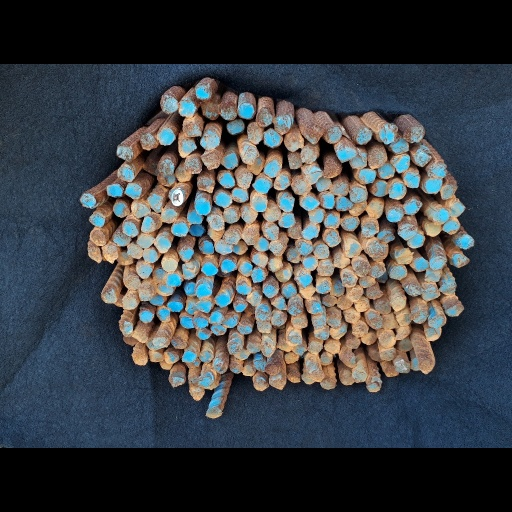dipstick: (303, 124, 324, 145), (369, 145, 386, 169), (269, 236, 287, 256), (220, 100, 237, 121), (178, 99, 196, 118), (200, 131, 219, 149), (157, 127, 175, 145), (352, 259, 370, 277), (323, 160, 341, 178), (275, 263, 292, 282), (404, 198, 423, 215), (292, 177, 311, 194), (379, 125, 396, 144), (301, 166, 321, 182), (247, 122, 262, 143), (404, 126, 425, 141), (203, 102, 220, 120), (285, 134, 303, 151), (379, 330, 396, 348), (422, 283, 439, 301), (257, 107, 273, 126), (366, 200, 382, 219), (301, 147, 318, 164), (389, 183, 406, 200), (265, 129, 281, 147), (241, 146, 257, 164), (197, 176, 215, 192), (141, 132, 157, 150), (168, 188, 186, 204), (87, 243, 102, 262), (427, 162, 446, 177), (266, 202, 280, 222), (162, 96, 178, 113), (202, 152, 219, 168), (218, 172, 235, 188), (184, 157, 201, 173), (124, 183, 141, 199), (366, 313, 383, 329), (302, 224, 319, 240), (324, 230, 341, 246), (251, 194, 267, 211), (241, 207, 257, 224), (350, 153, 367, 169), (393, 156, 410, 172), (377, 162, 394, 178), (403, 171, 419, 188), (237, 104, 255, 119), (226, 120, 244, 135), (183, 121, 201, 136), (178, 140, 196, 155), (360, 222, 378, 237), (386, 207, 404, 222), (279, 194, 294, 212), (329, 182, 348, 196), (390, 140, 409, 154), (337, 147, 357, 160), (90, 229, 106, 245), (224, 207, 240, 223), (255, 306, 271, 322), (117, 146, 134, 161), (215, 192, 232, 207), (243, 227, 258, 244), (398, 224, 415, 239), (273, 175, 290, 190), (326, 126, 341, 143), (357, 127, 372, 144), (415, 149, 430, 166), (113, 231, 131, 245), (103, 245, 117, 263), (439, 281, 457, 295), (407, 234, 425, 248), (358, 169, 376, 183), (275, 115, 288, 134), (424, 269, 443, 282), (300, 197, 319, 210), (222, 153, 237, 169), (264, 161, 280, 176), (159, 159, 174, 175), (155, 238, 171, 253), (127, 242, 142, 258), (208, 215, 224, 230), (375, 299, 391, 314), (391, 296, 406, 312), (263, 224, 278, 240), (317, 261, 333, 276), (345, 242, 361, 257), (350, 187, 366, 202), (372, 181, 387, 197), (426, 178, 442, 193), (287, 152, 301, 169), (117, 168, 134, 182), (144, 159, 158, 176), (141, 216, 155, 233), (161, 258, 178, 272), (411, 310, 428, 324), (323, 215, 340, 229), (342, 216, 359, 230), (132, 203, 150, 216), (428, 315, 446, 328), (296, 242, 314, 255), (452, 254, 470, 267), (445, 304, 464, 316), (196, 84, 211, 99), (113, 202, 128, 217), (195, 199, 210, 214), (123, 222, 138, 237), (326, 312, 341, 327), (395, 325, 410, 340), (342, 270, 357, 285), (80, 193, 96, 207), (89, 213, 105, 227), (124, 276, 140, 290), (371, 262, 385, 278), (366, 241, 382, 255), (395, 250, 411, 264), (443, 221, 459, 235), (253, 179, 269, 193), (320, 194, 334, 210), (171, 223, 188, 236), (329, 327, 346, 340), (333, 254, 350, 267), (366, 286, 383, 299), (389, 266, 406, 279), (349, 202, 366, 215), (323, 341, 341, 353), (107, 183, 122, 197), (161, 208, 176, 222), (138, 285, 152, 300), (196, 284, 211, 298), (133, 350, 147, 365), (383, 314, 398, 328), (330, 281, 344, 296), (279, 213, 294, 227), (314, 245, 329, 259), (309, 209, 323, 224), (458, 235, 473, 249), (433, 209, 448, 223), (450, 202, 465, 216), (316, 178, 331, 192), (101, 289, 117, 302), (221, 259, 237, 272), (182, 263, 195, 279), (120, 321, 133, 337), (192, 316, 208, 329), (255, 321, 271, 334), (337, 297, 353, 310), (412, 257, 428, 270), (429, 257, 445, 270), (441, 186, 457, 199), (201, 263, 218, 275), (296, 274, 313, 286), (335, 197, 352, 209), (176, 168, 190, 182), (143, 248, 157, 262), (352, 322, 366, 336), (395, 359, 409, 373), (419, 360, 433, 374), (254, 238, 268, 252), (137, 265, 152, 278), (153, 269, 166, 284), (179, 248, 194, 261), (199, 241, 214, 254), (224, 230, 239, 243), (233, 242, 248, 255), (288, 302, 303, 315), (307, 341, 322, 354), (398, 339, 413, 352), (426, 328, 441, 341), (281, 285, 296, 298), (289, 223, 302, 238), (149, 194, 161, 210), (232, 189, 248, 201), (138, 235, 154, 247), (265, 363, 281, 375), (286, 334, 302, 346), (291, 316, 307, 328), (307, 302, 323, 314), (361, 333, 377, 345), (381, 349, 397, 361), (367, 345, 379, 361), (378, 230, 394, 242), (425, 224, 441, 236), (157, 176, 176, 186), (156, 285, 173, 296), (215, 242, 232, 253), (405, 285, 422, 296), (272, 312, 286, 325), (269, 258, 282, 272), (209, 312, 224, 324), (277, 334, 287, 352), (263, 285, 278, 297), (348, 288, 363, 300), (300, 287, 315, 299), (355, 299, 370, 311), (246, 163, 262, 174), (188, 225, 204, 236), (201, 378, 217, 389), (253, 379, 269, 390), (270, 379, 286, 390), (157, 309, 170, 322), (252, 269, 265, 282), (237, 323, 251, 335), (215, 295, 229, 307), (247, 294, 261, 306), (273, 298, 287, 310), (310, 369, 324, 381), (344, 354, 356, 368), (397, 314, 411, 326), (322, 295, 336, 307), (316, 281, 330, 293), (302, 258, 316, 270), (187, 212, 202, 223), (139, 311, 154, 322), (164, 352, 179, 363), (148, 351, 163, 362), (198, 351, 213, 362), (240, 262, 251, 277), (210, 325, 226, 335), (184, 282, 196, 295), (224, 315, 237, 327), (234, 300, 247, 312), (287, 371, 300, 383), (341, 372, 353, 385), (118, 253, 132, 264), (197, 301, 211, 312), (133, 331, 147, 342), (213, 363, 227, 374), (247, 342, 261, 353), (284, 352, 298, 363), (312, 318, 326, 329), (353, 371, 367, 382), (152, 337, 169, 346), (314, 329, 329, 339), (321, 379, 336, 389), (345, 312, 360, 322), (180, 316, 192, 328), (297, 339, 306, 355), (320, 353, 332, 365), (359, 277, 375, 286), (206, 408, 222, 417), (123, 297, 136, 308), (185, 301, 196, 314), (302, 372, 315, 383), (237, 283, 250, 294), (168, 302, 182, 312), (191, 390, 205, 400), (346, 338, 360, 348), (385, 366, 399, 376), (169, 377, 184, 386), (195, 330, 210, 339), (235, 351, 250, 360), (262, 345, 274, 356), (287, 250, 299, 261), (182, 351, 195, 361), (230, 363, 243, 373), (123, 336, 137, 345), (208, 231, 223, 239), (172, 340, 187, 348), (228, 343, 240, 353), (254, 360, 264, 372), (367, 383, 380, 392), (410, 358, 419, 371), (243, 365, 254, 375), (186, 361, 200, 368), (160, 362, 171, 369), (146, 340, 152, 350)
